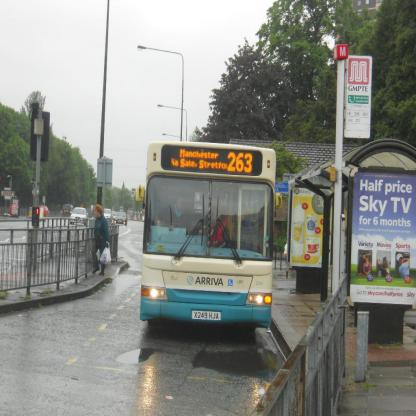Bus: (141, 141, 283, 329)
